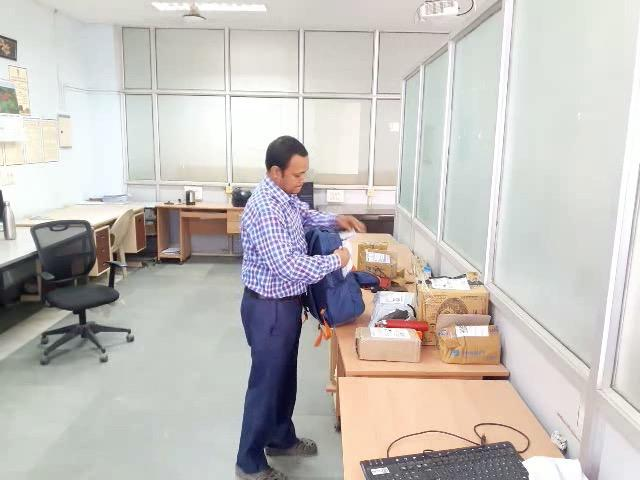shoplifting: (191, 194, 391, 327)
